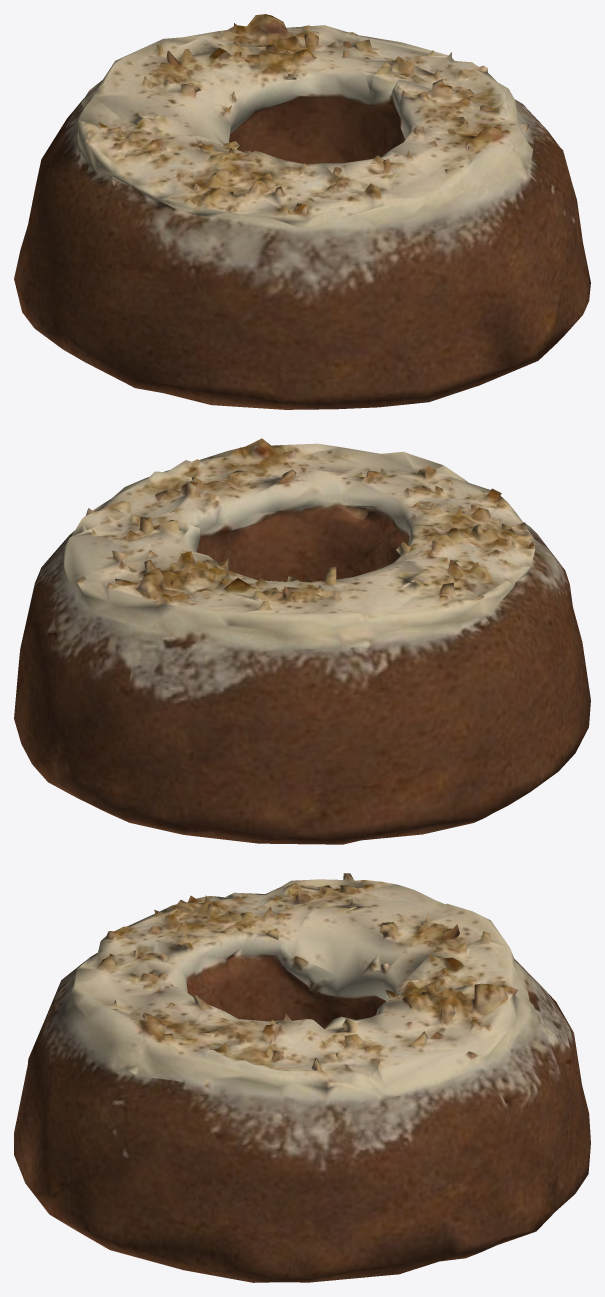
Rendered from carrot_cake.glb.
The picture shows the model from 3 angles, top to bottom: view 1: azimuth 30°, elevation 25°; view 2: azimuth 150°, elevation 25°; view 3: azimuth 270°, elevation 25°; orthographic projection. The views are drawn at different scales.
Parts seen in each view (by area): view 1: carrot_cake; view 2: carrot_cake; view 3: carrot_cake.
Boxes of the visible parts, x1,y1,x2,y2 form: carrot_cake: (14,14,590,409); carrot_cake: (14,438,590,844); carrot_cake: (14,873,590,1282).
Bounding box in the file's own units: 0.2254 × 0.0976 × 0.2254.
1 material, 1 textured.
